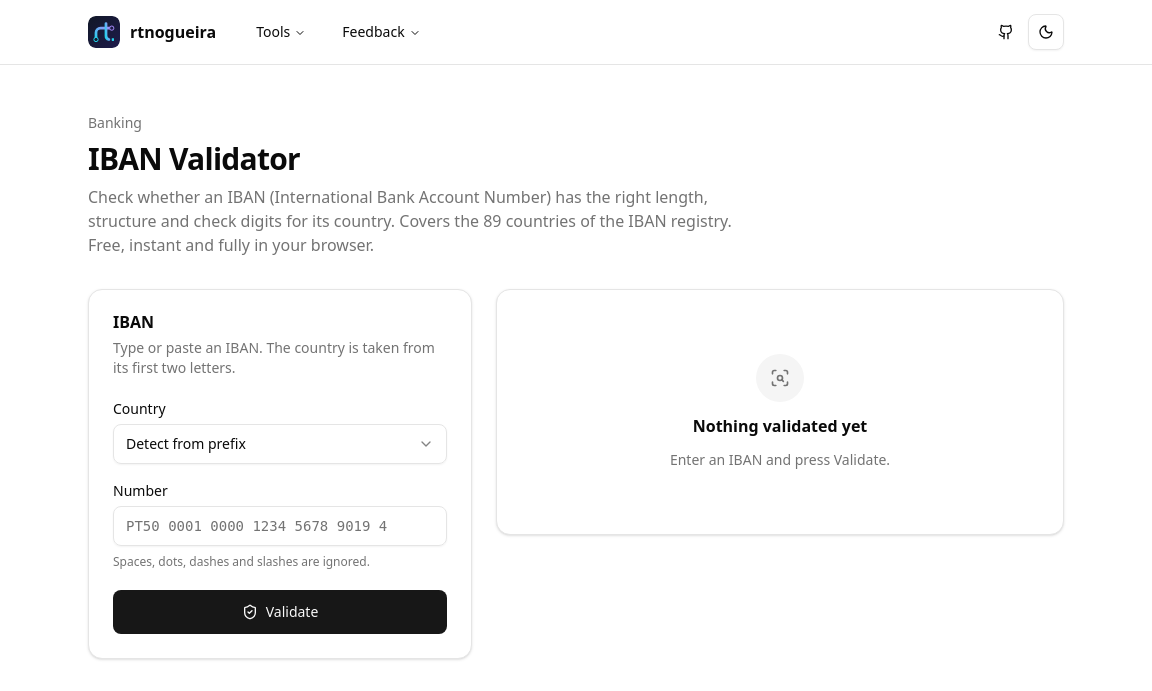
it: IBAN validator page › reports a wrong length
The width and height of the screenshot is (1152, 691).
Check: the heading "IBAN Validator" is shown, box [88,138,300,179]
In the field labelled "Number": (280, 526) [113,506,447,546], type "DE89 3704 0044 0532 0130"
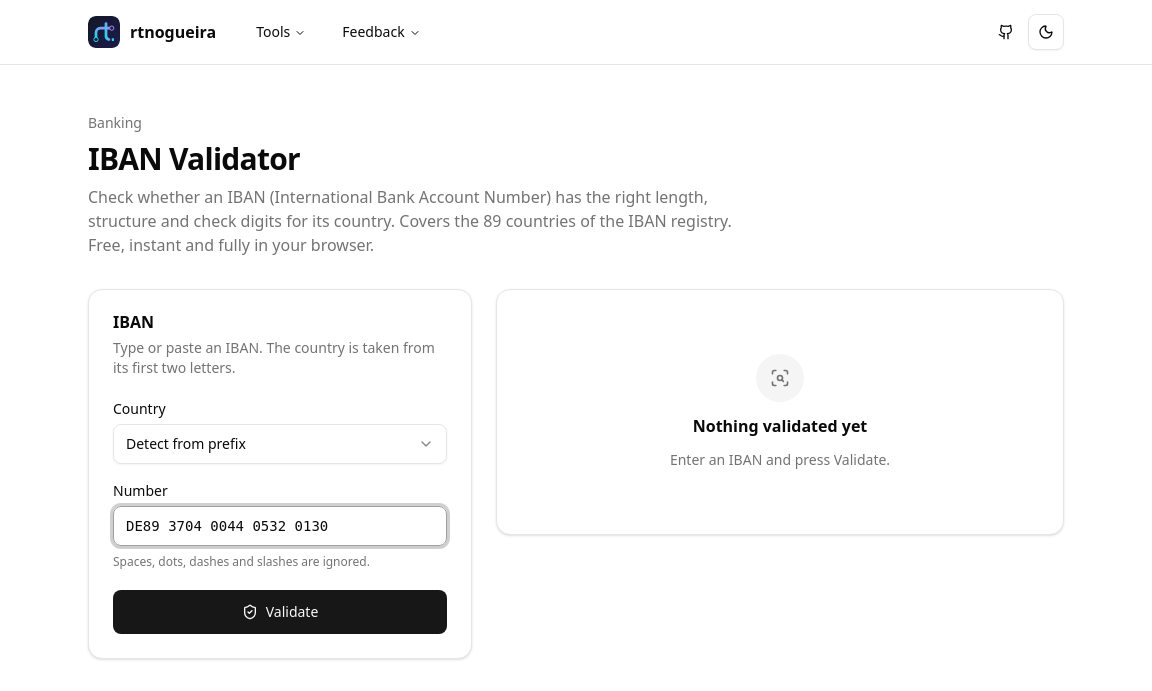
Click the button "Validate": (280, 612) [113,590,447,634]
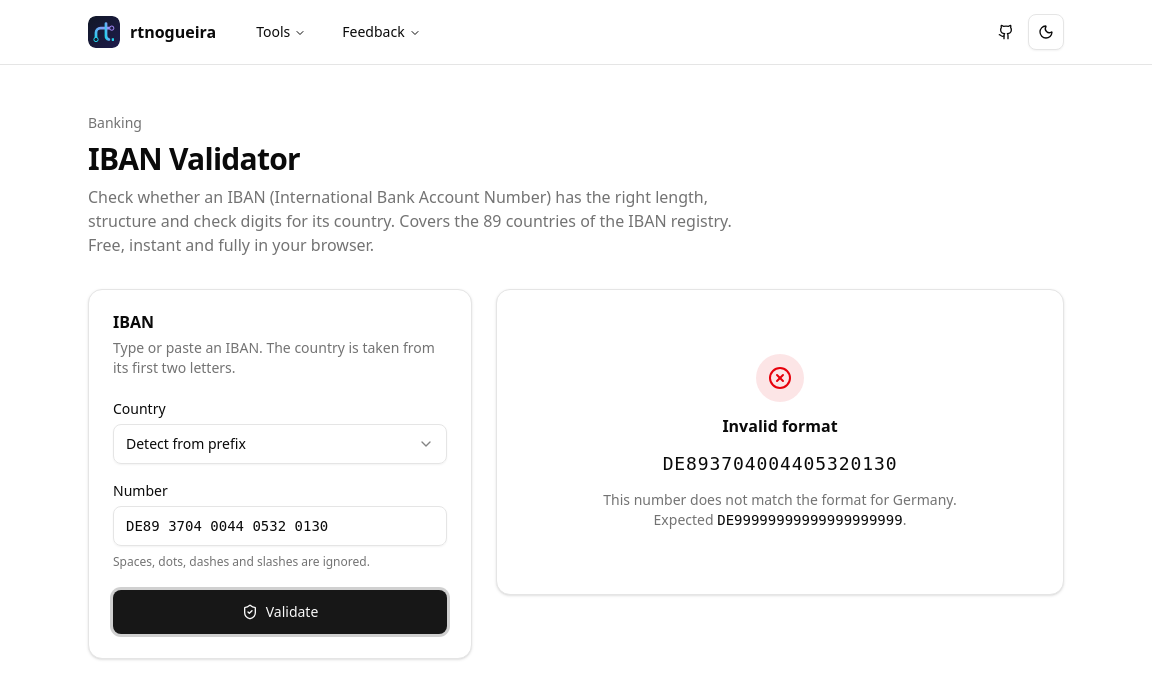
Check: the text "Invalid format" is shown, box [722,414,838,438]
